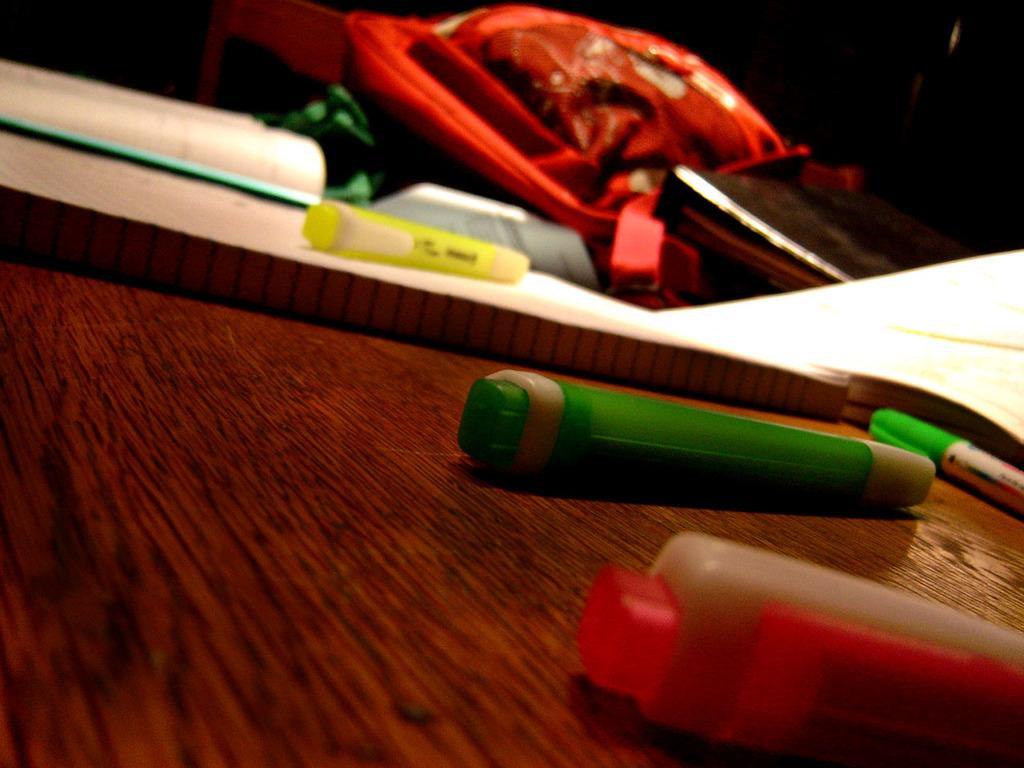pen: (565, 526, 1023, 767), (450, 367, 935, 515), (305, 197, 526, 279), (866, 405, 1023, 517)
